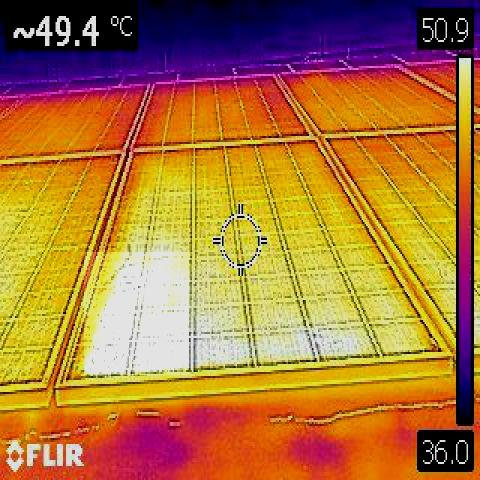fault: (84, 252, 190, 375)
